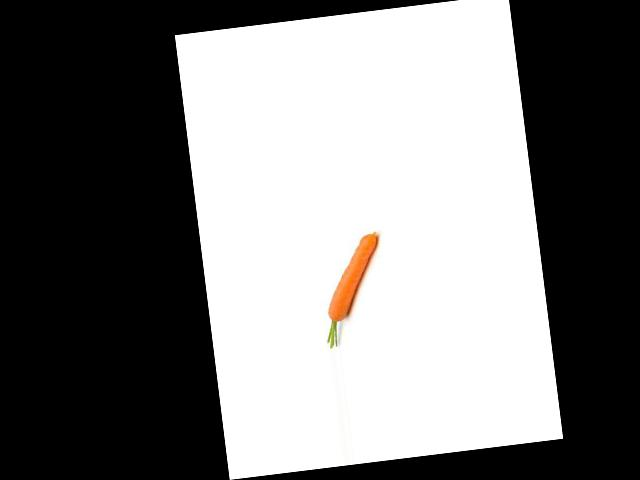carrot: (318, 229, 387, 325)
